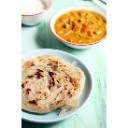parota: (20, 58, 81, 112)
